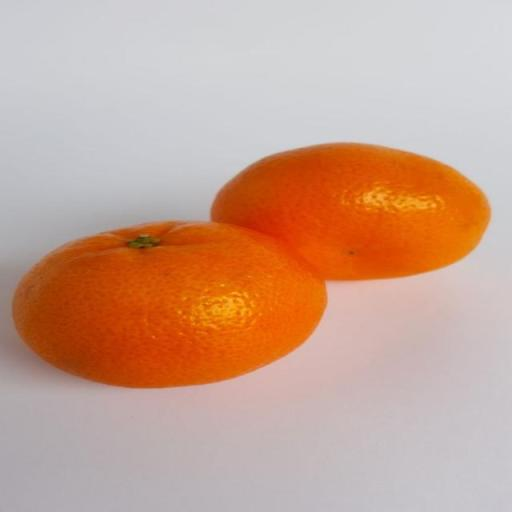fruit: (14, 222, 326, 387), (212, 144, 489, 279)
